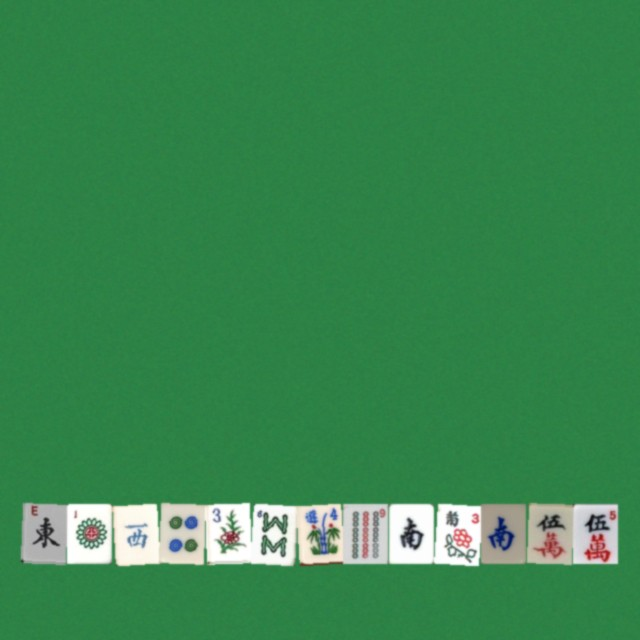tile: (20, 503, 65, 563), (66, 503, 111, 563), (112, 503, 157, 563), (158, 503, 203, 563), (204, 503, 249, 563), (250, 503, 295, 563), (296, 503, 341, 563), (342, 503, 387, 563), (388, 503, 433, 563), (434, 503, 479, 563), (480, 503, 525, 563), (526, 503, 571, 563), (572, 503, 617, 563)
